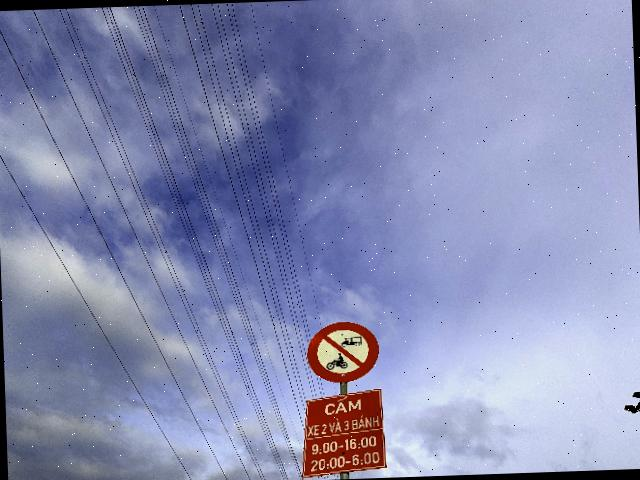cam-xe-2-banh-3-banh: (306, 321, 380, 384)
